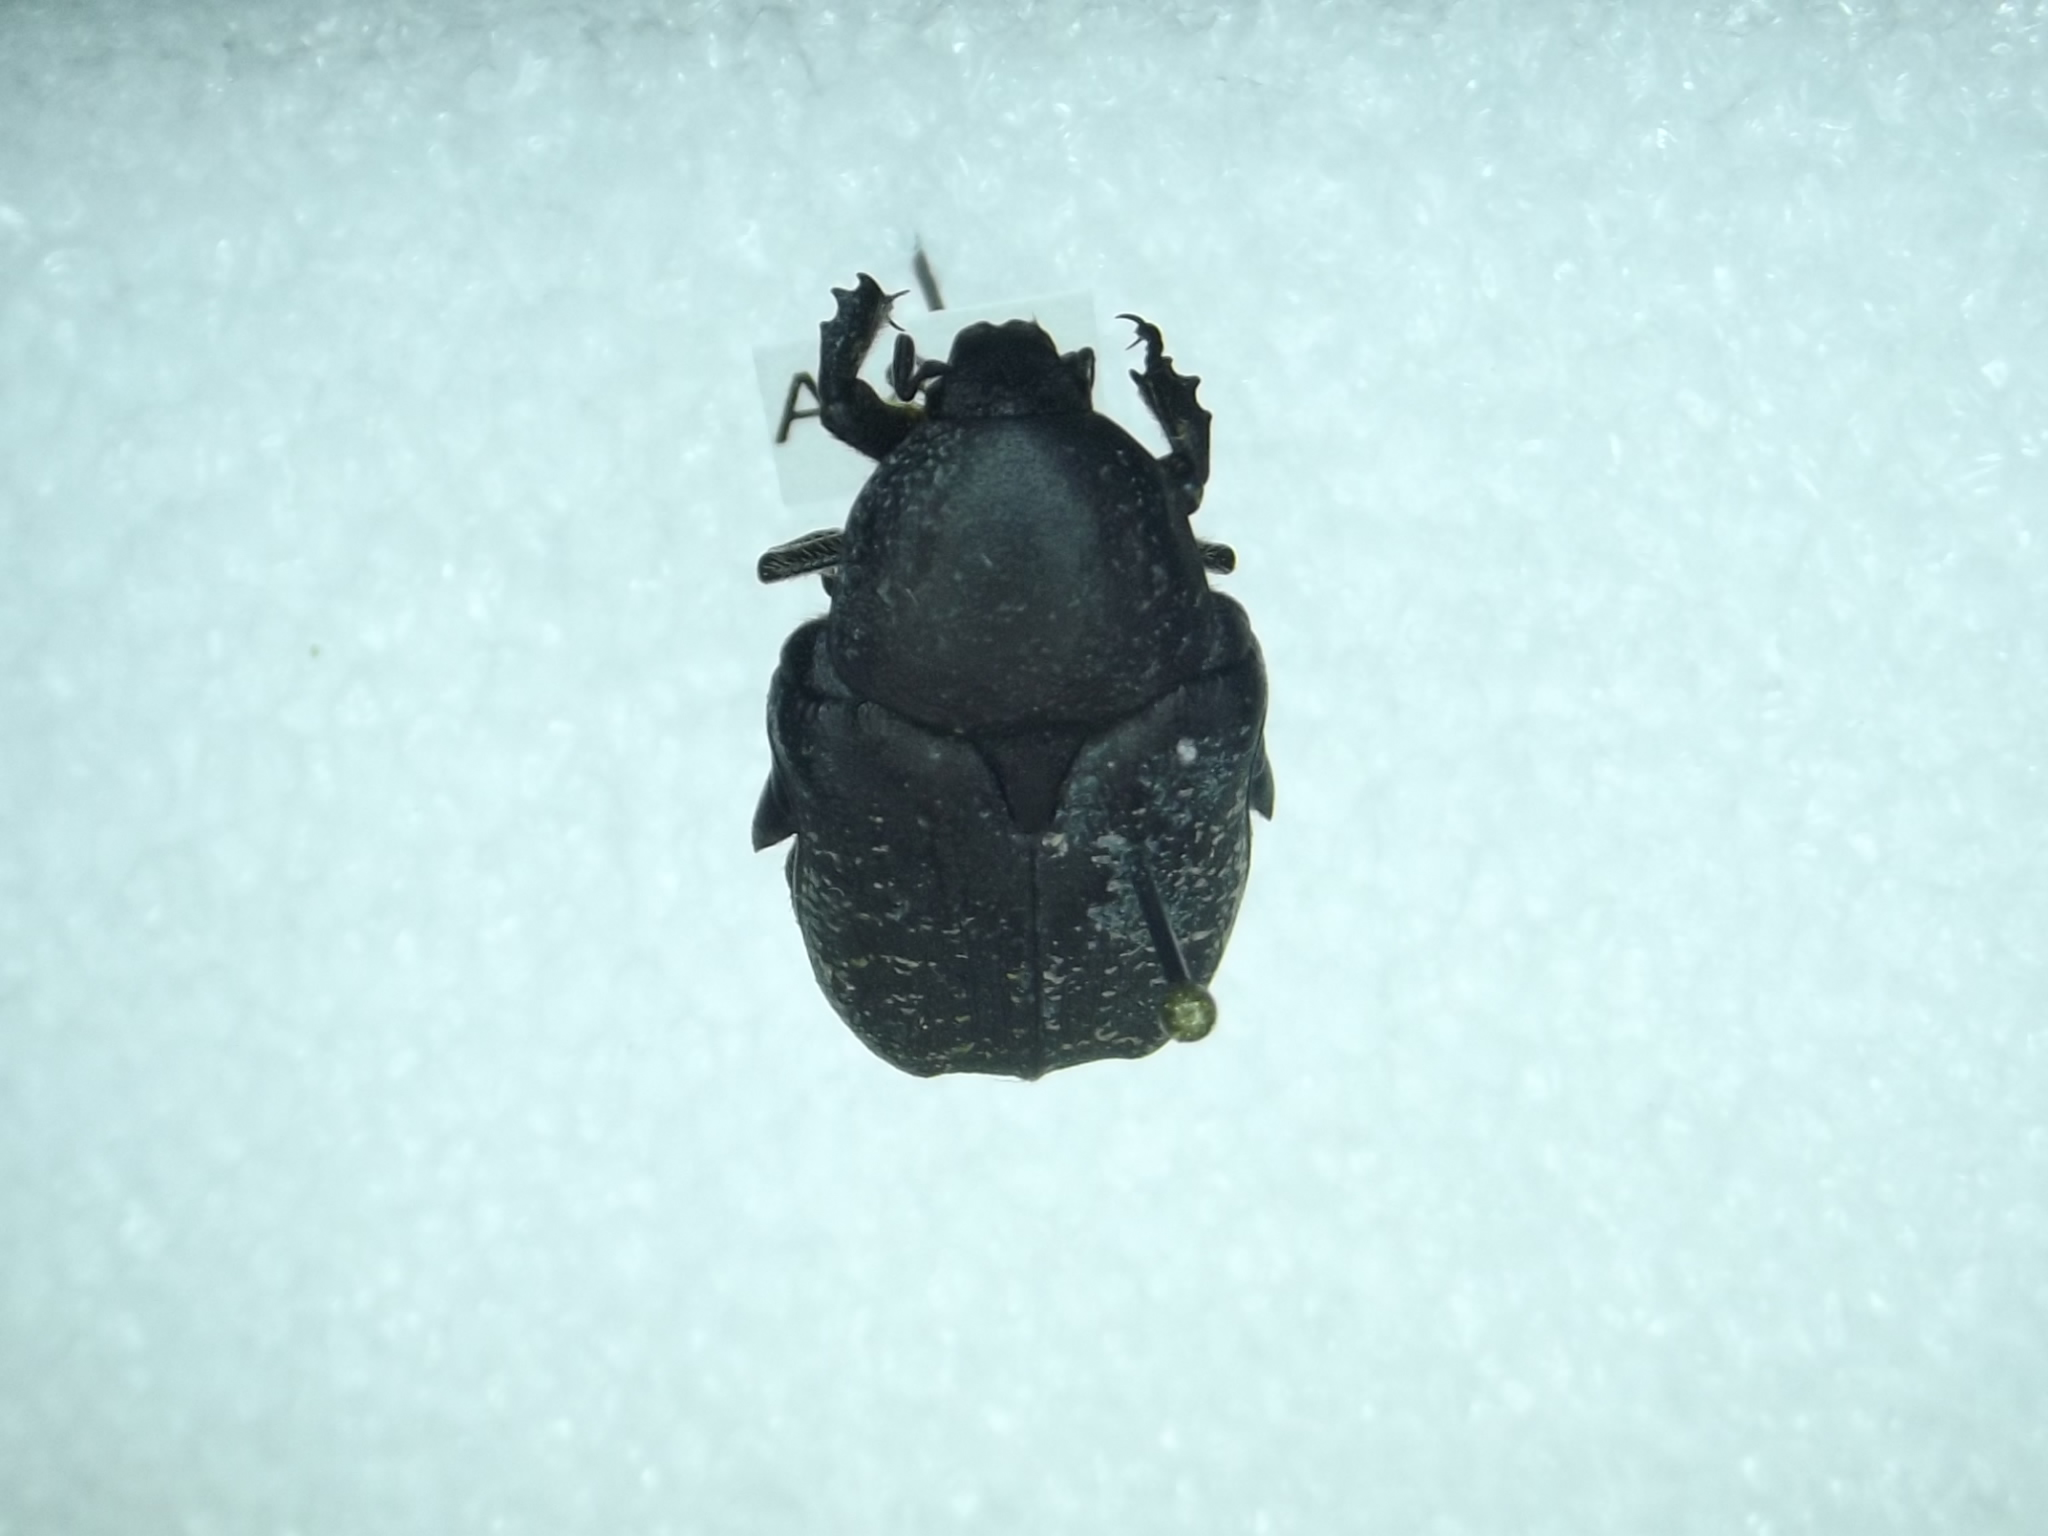Protaetia_asiatica: (724, 260, 1303, 1133)
